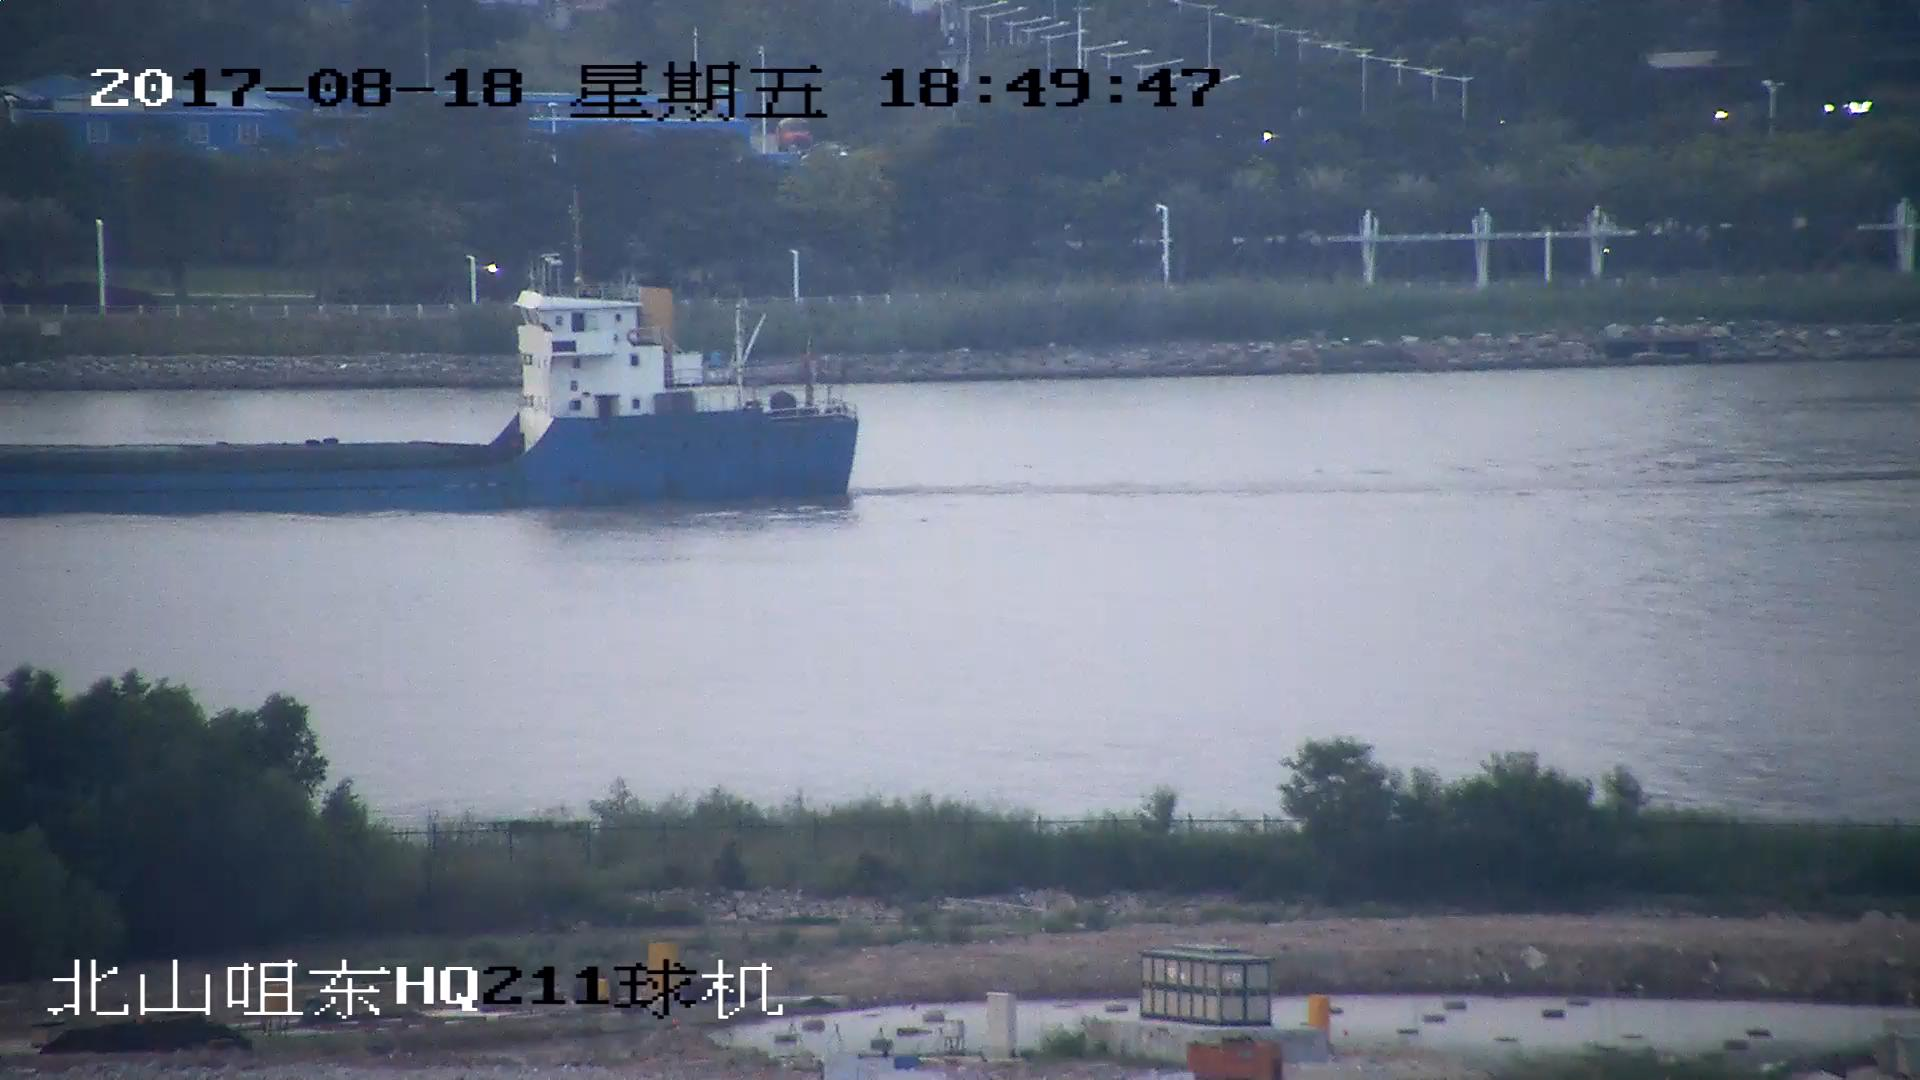general cargo ship: (1, 261, 866, 509)
